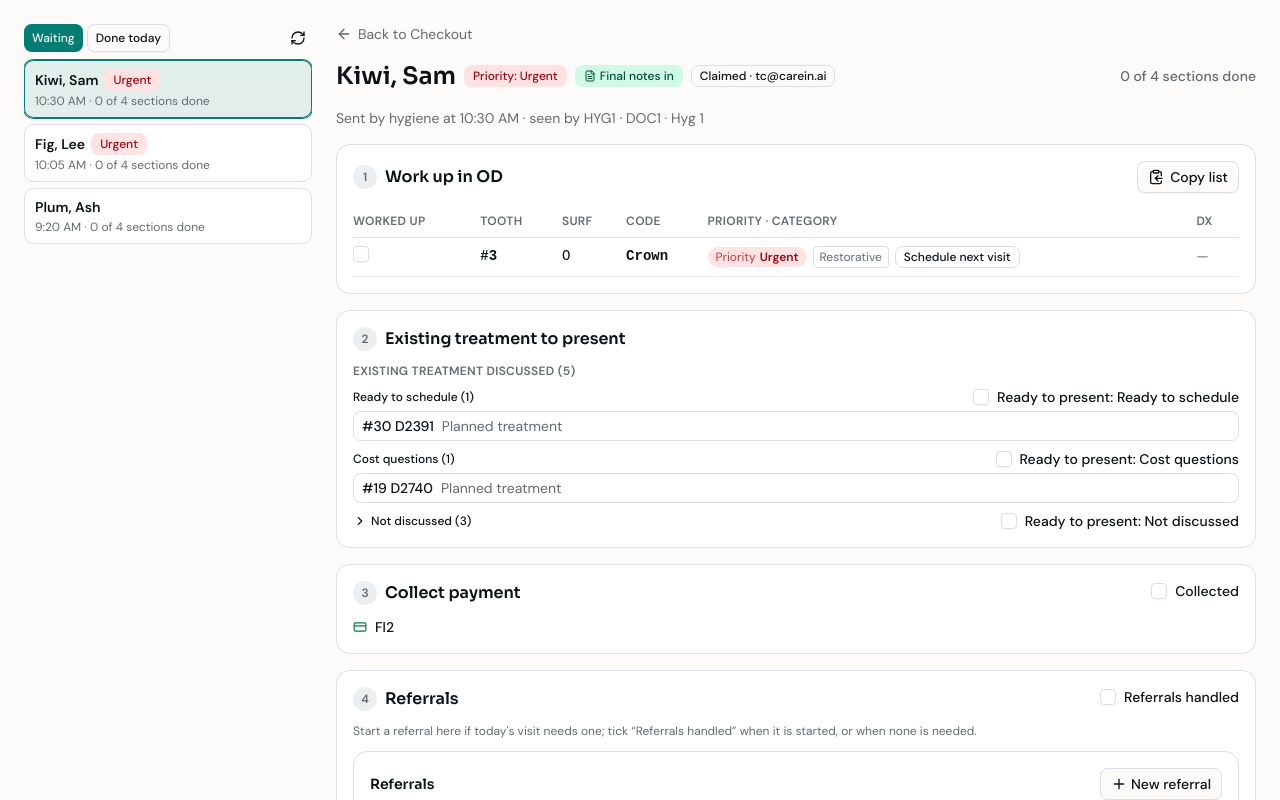
it: CO-1 polish 1 — master-detail › the rail's Waiting / Done today filters are the Checkout page's, and switching one does not reload the workup
Expected: the heading "Kiwi, Sam" is shown, left=336, top=60, right=456, bottom=92
Expected: the number of buttons with test id "workup-rail-row" is 3, left=24, top=60, right=312, bottom=118; left=24, top=124, right=312, bottom=182; left=24, top=188, right=312, bottom=244
Click the tab with test id "workup-rail-tab-done": click(128, 38) left=87, top=24, right=170, bottom=52
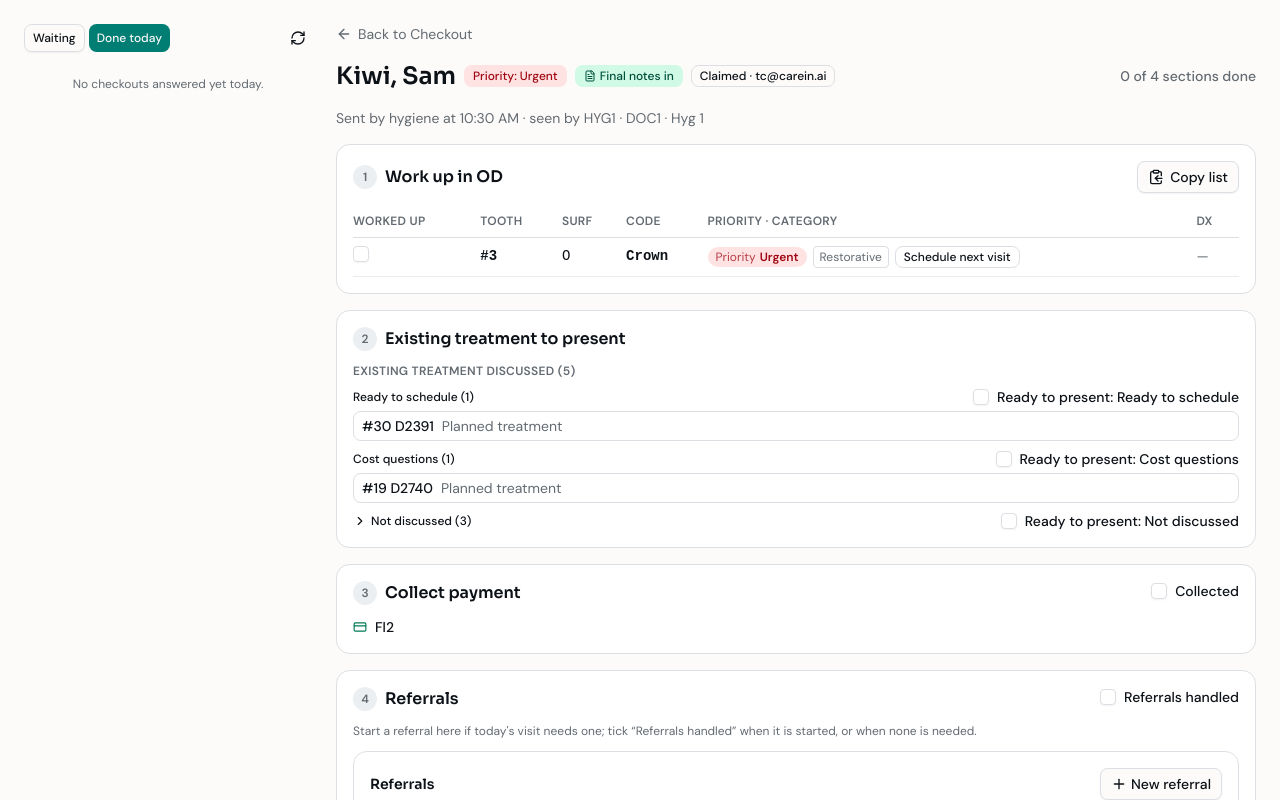
Expected: the heading with test id "workup-patient" reads "Kiwi, Sam", left=336, top=61, right=456, bottom=91
Expected: the text "No checkouts answered yet today." is shown, left=73, top=76, right=263, bottom=92
